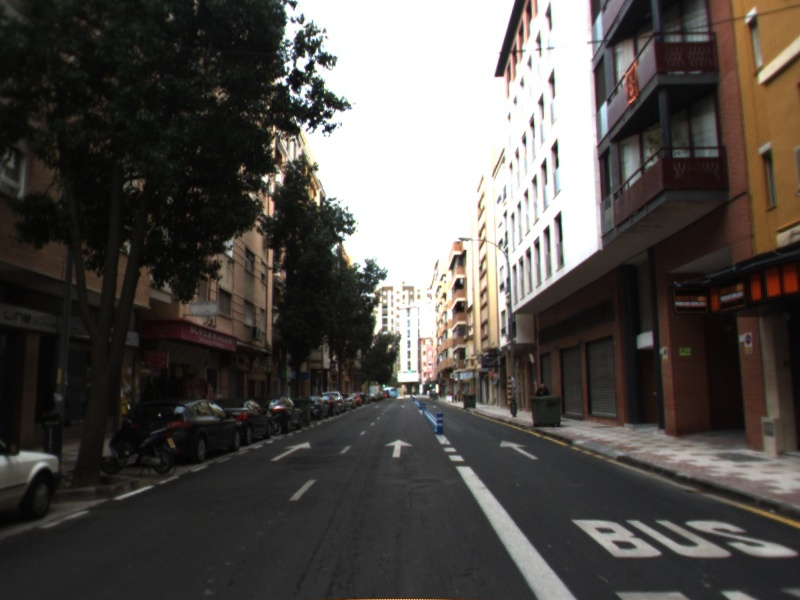STRAIGHT: (498, 438, 542, 461), (269, 440, 313, 463), (383, 437, 415, 459)
